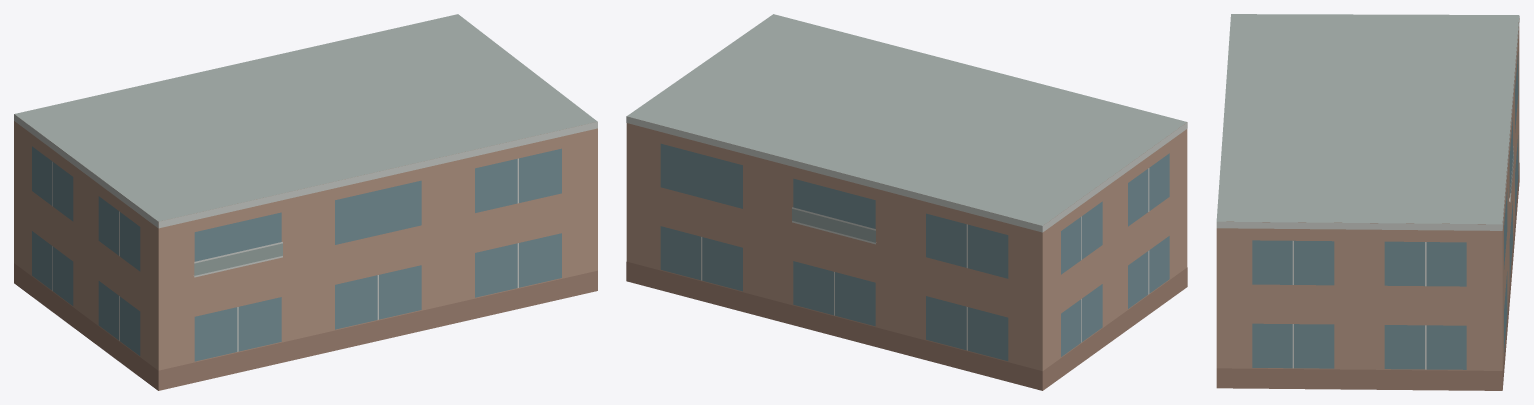
Rendered from survey-upis-32503481.glb.
3 renders of one model, left to right at view 1: azimuth 30°, elevation 25°; view 2: azimuth 150°, elevation 25°; view 3: azimuth 270°, elevation 25°, orthographic. The views are drawn at different scales.
Parts seen in each view (by area): view 1: survey-upis-32503481.tmp; view 2: survey-upis-32503481.tmp; view 3: survey-upis-32503481.tmp.
Boxes of the visible parts, left/top/right/bottom form: survey-upis-32503481.tmp: left=14, top=14, right=597, bottom=390; survey-upis-32503481.tmp: left=626, top=14, right=1187, bottom=390; survey-upis-32503481.tmp: left=1216, top=14, right=1519, bottom=390.
Bounding box in the file's own units: 16.52 × 6.1 × 10.06.
